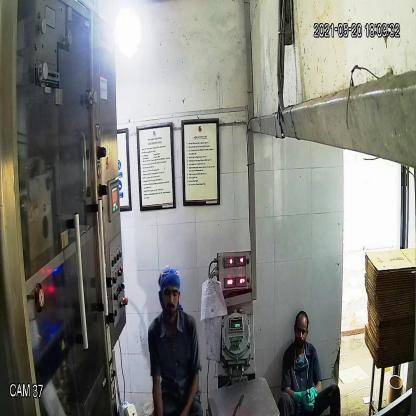no_goggles: (158, 283, 180, 302), (293, 320, 310, 338)
